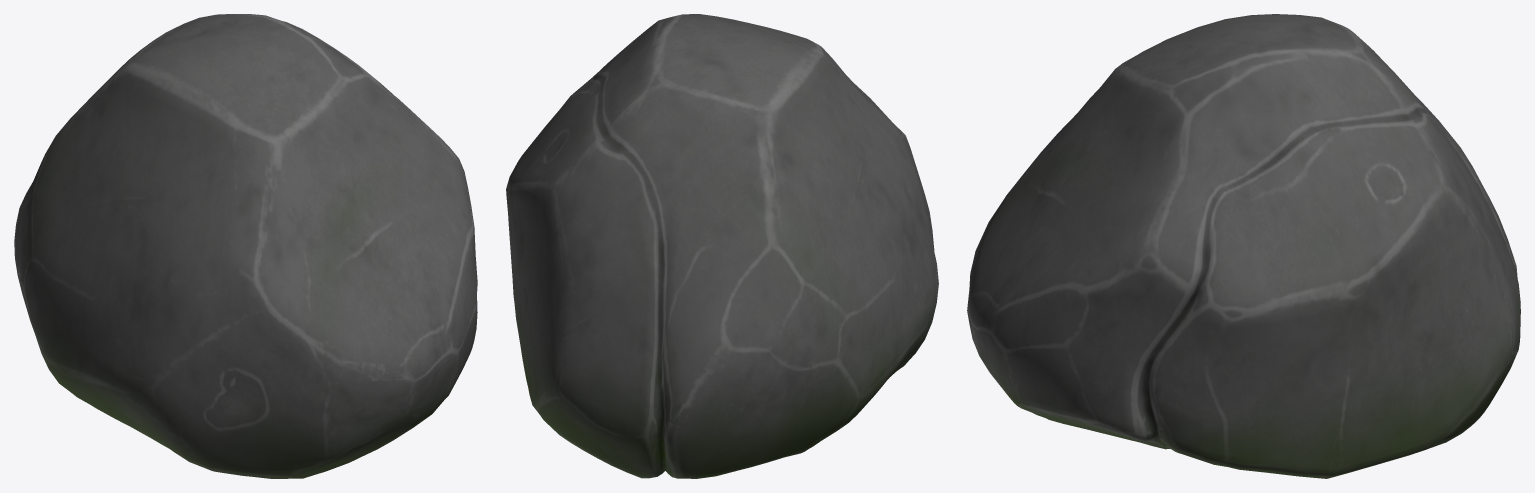
File: rock_.gltf
3 renders of one model, left to right at view 1: azimuth 30°, elevation 25°; view 2: azimuth 150°, elevation 25°; view 3: azimuth 270°, elevation 25°, orthographic. The views are drawn at different scales.
Visible parts, largest first — view 1: stone_0; view 2: stone_0; view 3: stone_0.
Boxes of the visible parts, bbox=[...] form: stone_0: bbox=[14, 14, 477, 478]; stone_0: bbox=[506, 14, 938, 478]; stone_0: bbox=[967, 14, 1520, 478].
Bounding box in the file's own units: 0.4151 × 0.3983 × 0.5073.
Materials: 1 (1 with a texture image).
